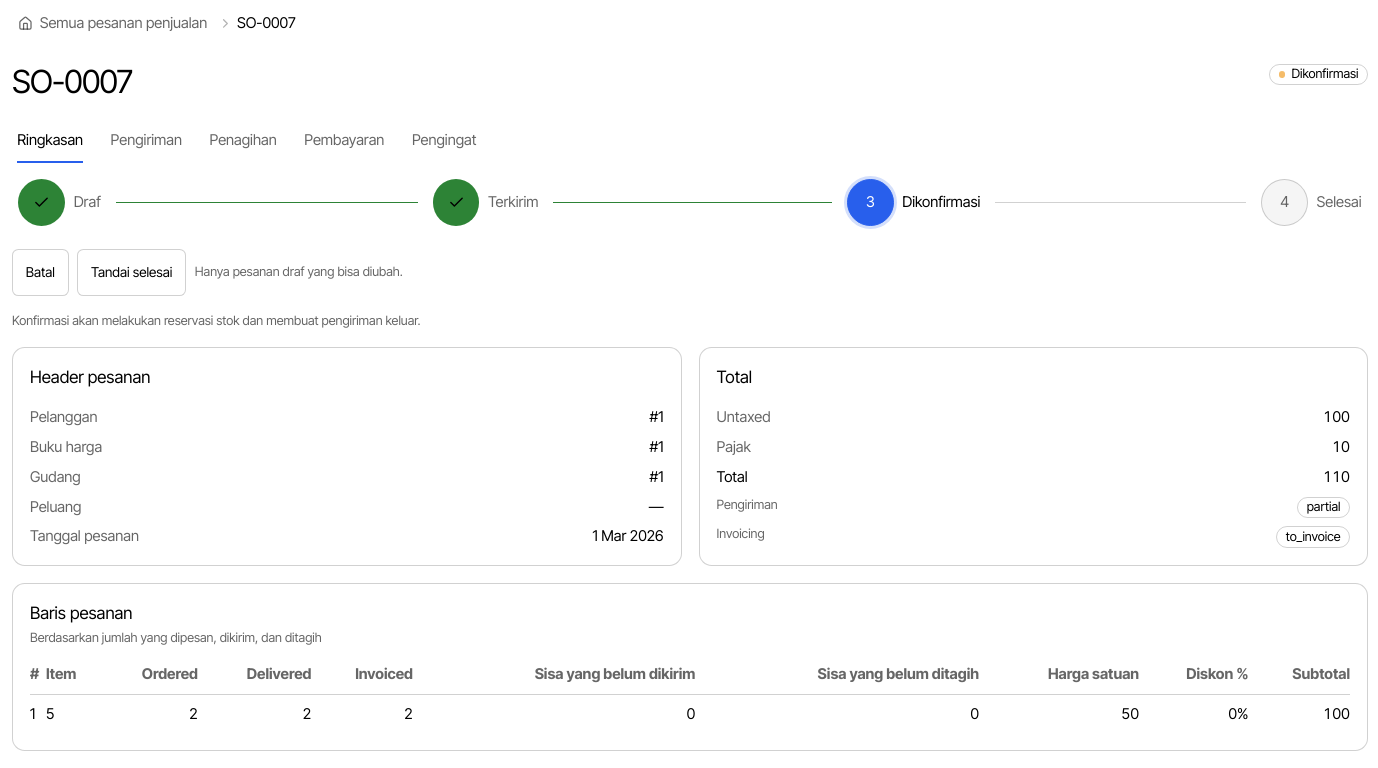
Test: SaleOrderDetail branches2 › shows invoicing empty branch and disabled create button without billable lines
Click the tab "Penagihan" at x=243, y=141, box [208, 117, 278, 164]
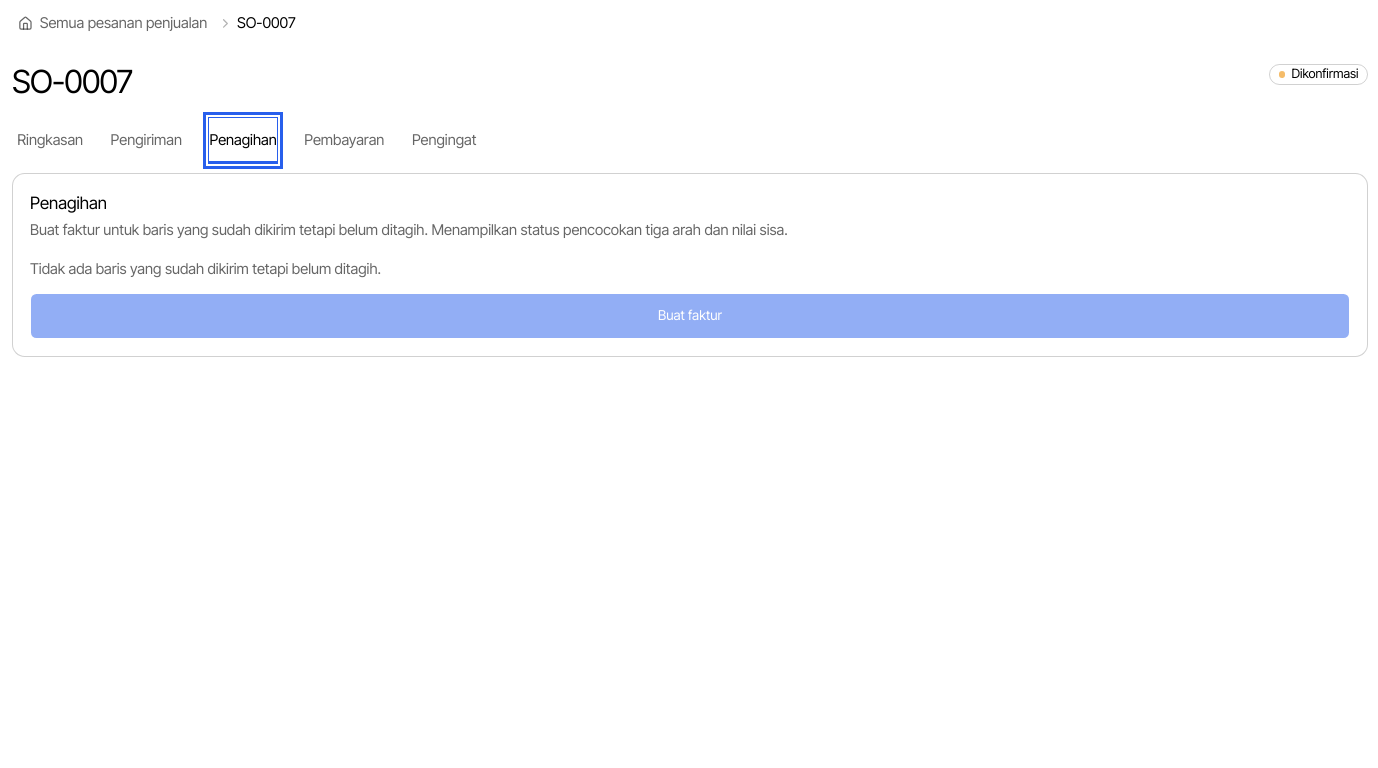
Now the text "Tidak ada baris yang sudah dikirim tetapi belum ditagih." is shown, box [30, 260, 381, 278]
